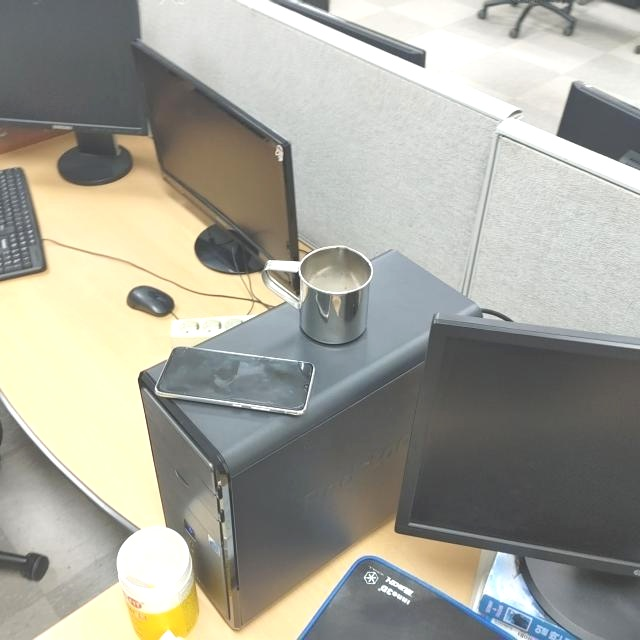cup: (262, 242, 374, 350)
phone: (154, 344, 317, 417)
